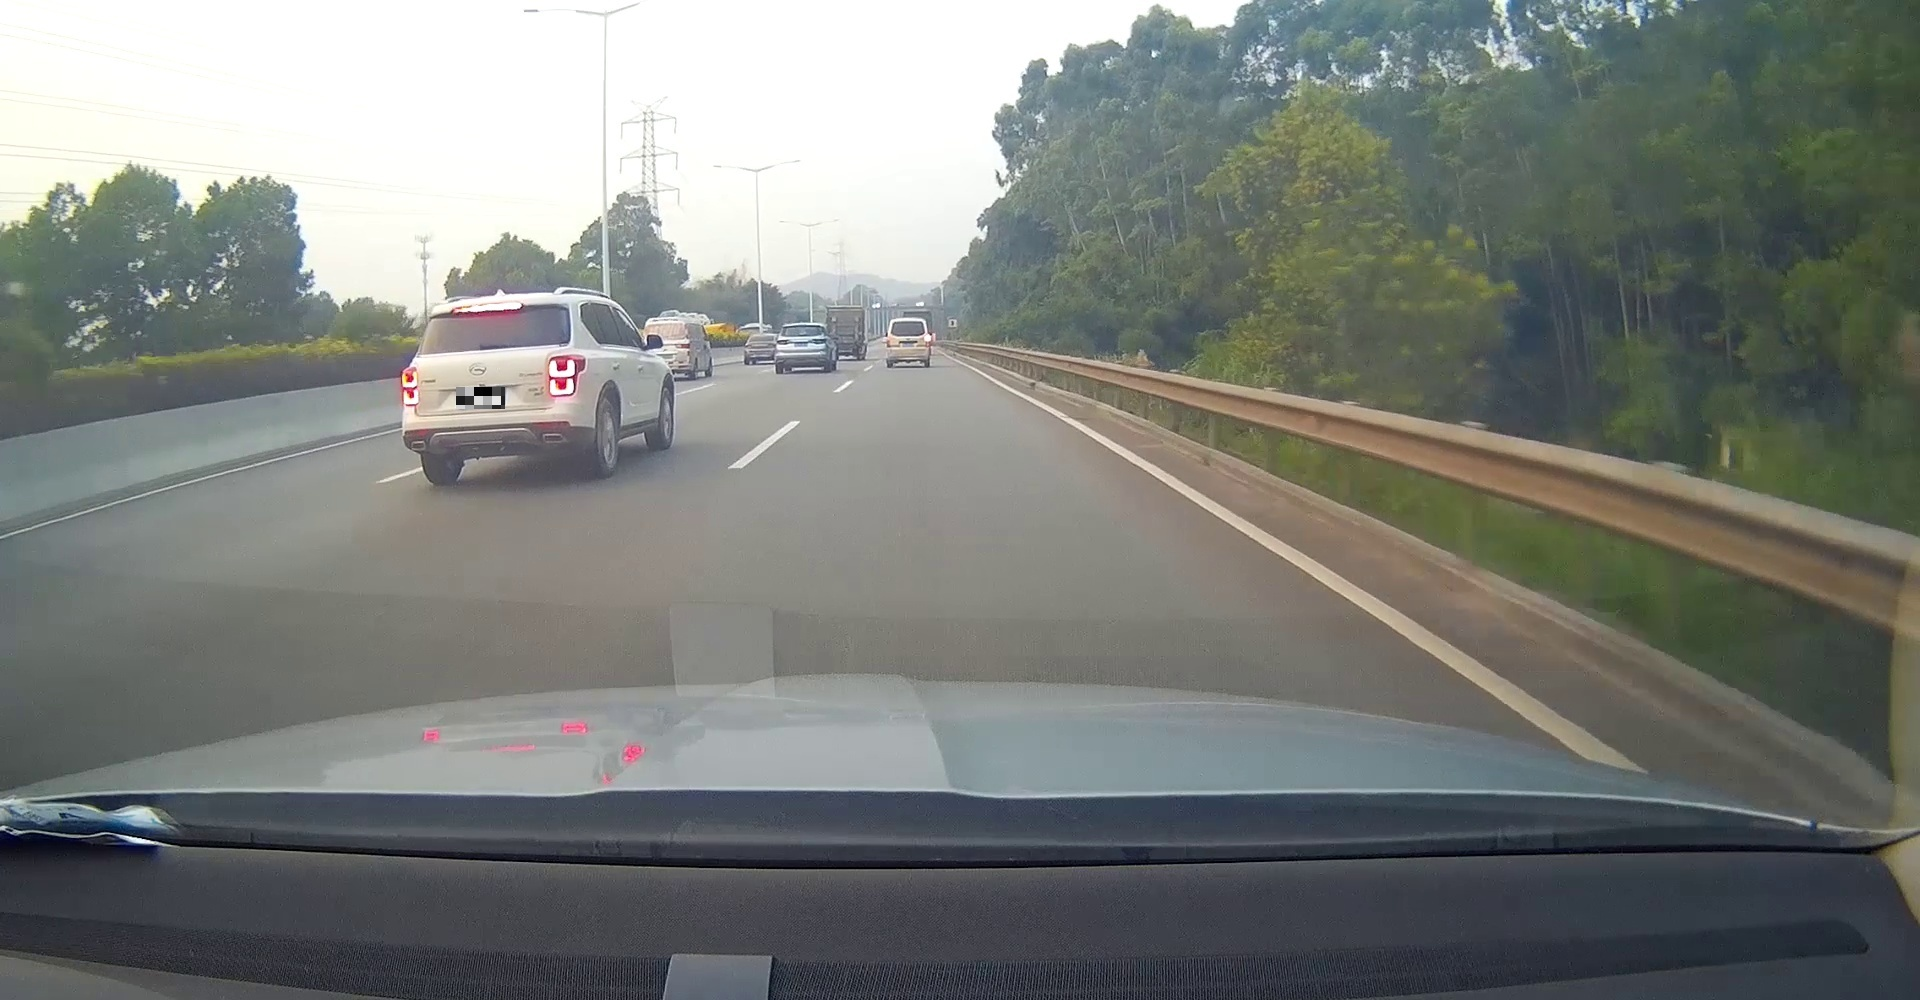L_light: (401, 367, 420, 406)
R_light: (547, 354, 585, 397)
T_light: (451, 302, 523, 313)
day-brake: (401, 293, 596, 485)
plate_1: (456, 387, 505, 409)
